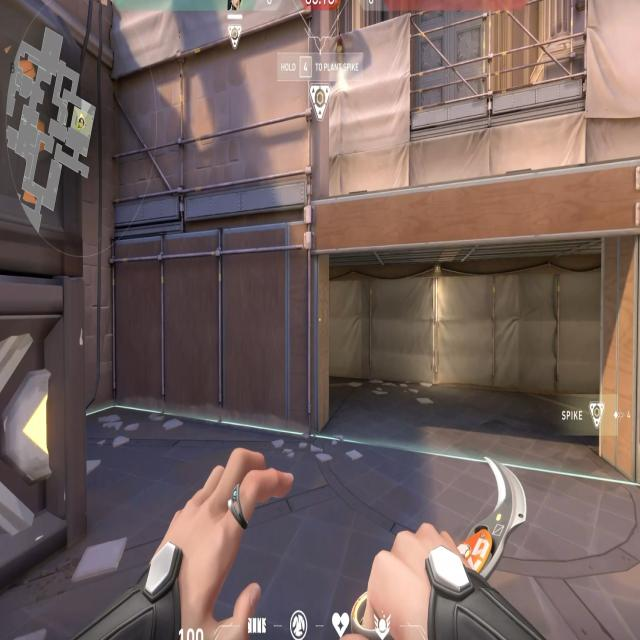A_Door: (102, 0, 333, 192)
A_Hell: (280, 200, 640, 491)
